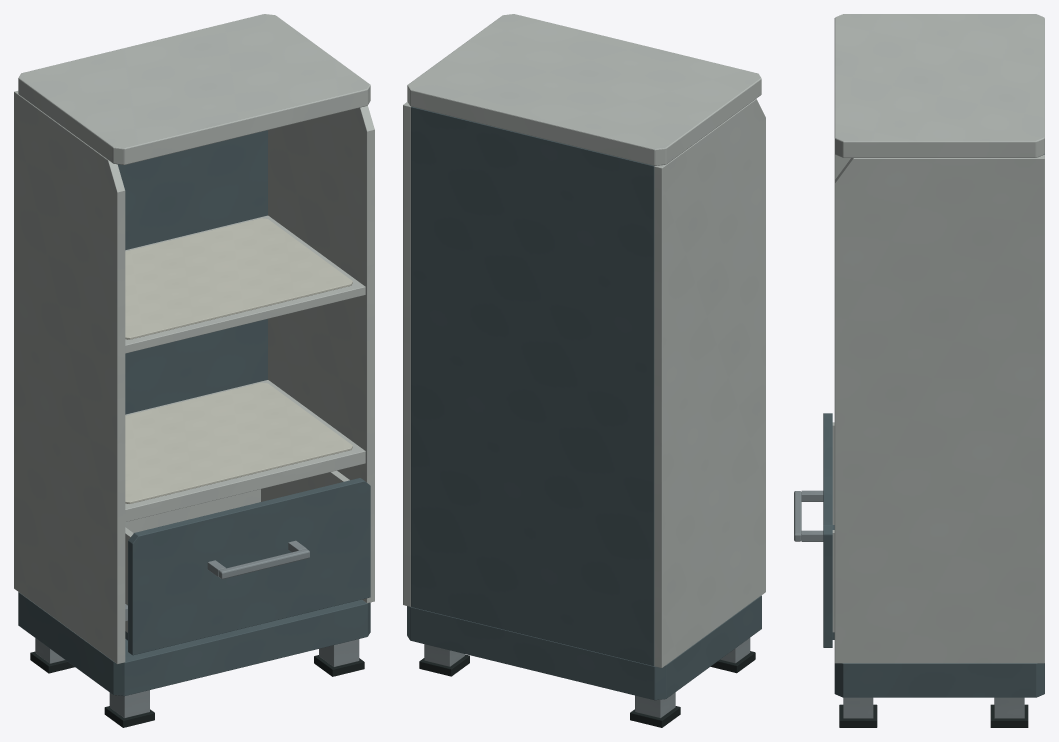
File: AST-CRW-003.glb
3 renders of one model, left to right at view 1: azimuth 30°, elevation 25°; view 2: azimuth 150°, elevation 25°; view 3: azimuth 270°, elevation 25°, orthographic.
Parts seen in each view (by area): view 1: AST-CRW-003__static__staff_white_paint, AST-CRW-003__static__staff_bluegrey_paint, AST-CRW-003__static__staff_label, AST-CRW-003__drawer__staff_bluegrey_paint, AST-CRW-003__drawer__staff_white_paint, AST-CRW-003__static__staff_zinc, AST-CRW-003__static__staff_rubber, AST-CRW-003__drawer__staff_zinc; view 2: AST-CRW-003__static__staff_bluegrey_paint, AST-CRW-003__static__staff_white_paint, AST-CRW-003__static__staff_zinc, AST-CRW-003__static__staff_rubber; view 3: AST-CRW-003__static__staff_white_paint, AST-CRW-003__static__staff_bluegrey_paint, AST-CRW-003__drawer__staff_bluegrey_paint, AST-CRW-003__static__staff_zinc, AST-CRW-003__static__staff_rubber, AST-CRW-003__drawer__staff_zinc, AST-CRW-003__drawer__staff_white_paint.
Boxes of the visible parts, x1,y1,x2,y2 form: AST-CRW-003__static__staff_white_paint: (14,14,374,664); AST-CRW-003__static__staff_bluegrey_paint: (18,130,370,696); AST-CRW-003__static__staff_label: (125,218,352,503); AST-CRW-003__drawer__staff_bluegrey_paint: (125,478,370,655); AST-CRW-003__drawer__staff_white_paint: (125,470,349,632); AST-CRW-003__static__staff_zinc: (35,606,359,718); AST-CRW-003__static__staff_rubber: (30,651,364,727); AST-CRW-003__drawer__staff_zinc: (125,540,309,607); AST-CRW-003__static__staff_bluegrey_paint: (407,106,761,700); AST-CRW-003__static__staff_white_paint: (403,14,765,667); AST-CRW-003__static__staff_zinc: (424,638,750,718); AST-CRW-003__static__staff_rubber: (419,651,755,727); AST-CRW-003__static__staff_white_paint: (834,14,1044,663); AST-CRW-003__static__staff_bluegrey_paint: (834,154,1044,697); AST-CRW-003__drawer__staff_bluegrey_paint: (823,413,834,647); AST-CRW-003__static__staff_zinc: (843,697,1024,718); AST-CRW-003__static__staff_rubber: (839,704,1028,727); AST-CRW-003__drawer__staff_zinc: (794,490,823,541); AST-CRW-003__drawer__staff_white_paint: (832,422,834,632).
Size of the model in its own units: 0.64 by 1.38 by 0.531.
Materials: 5 (5 with a texture image).
